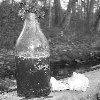beer: (10, 8, 57, 100)
